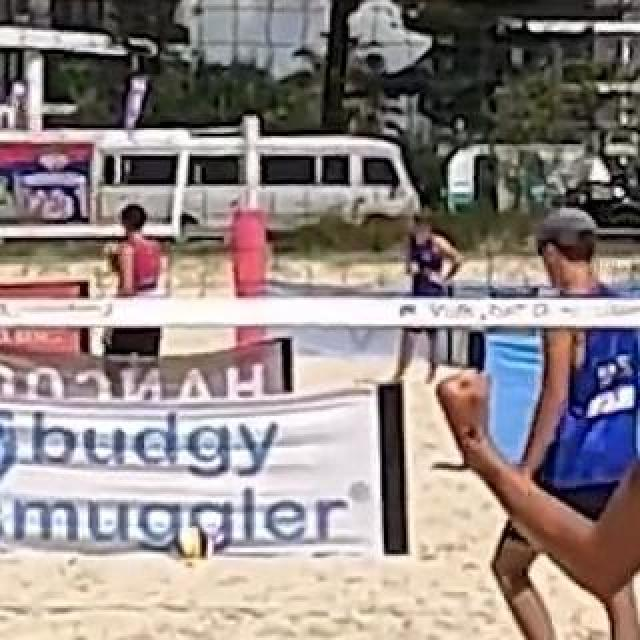volleyball: (172, 525, 218, 567)
